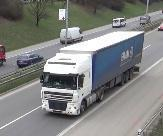Car: (17, 54, 41, 68), (140, 16, 151, 25), (158, 24, 163, 31)
Truck: (40, 31, 144, 116), (60, 26, 83, 43)
